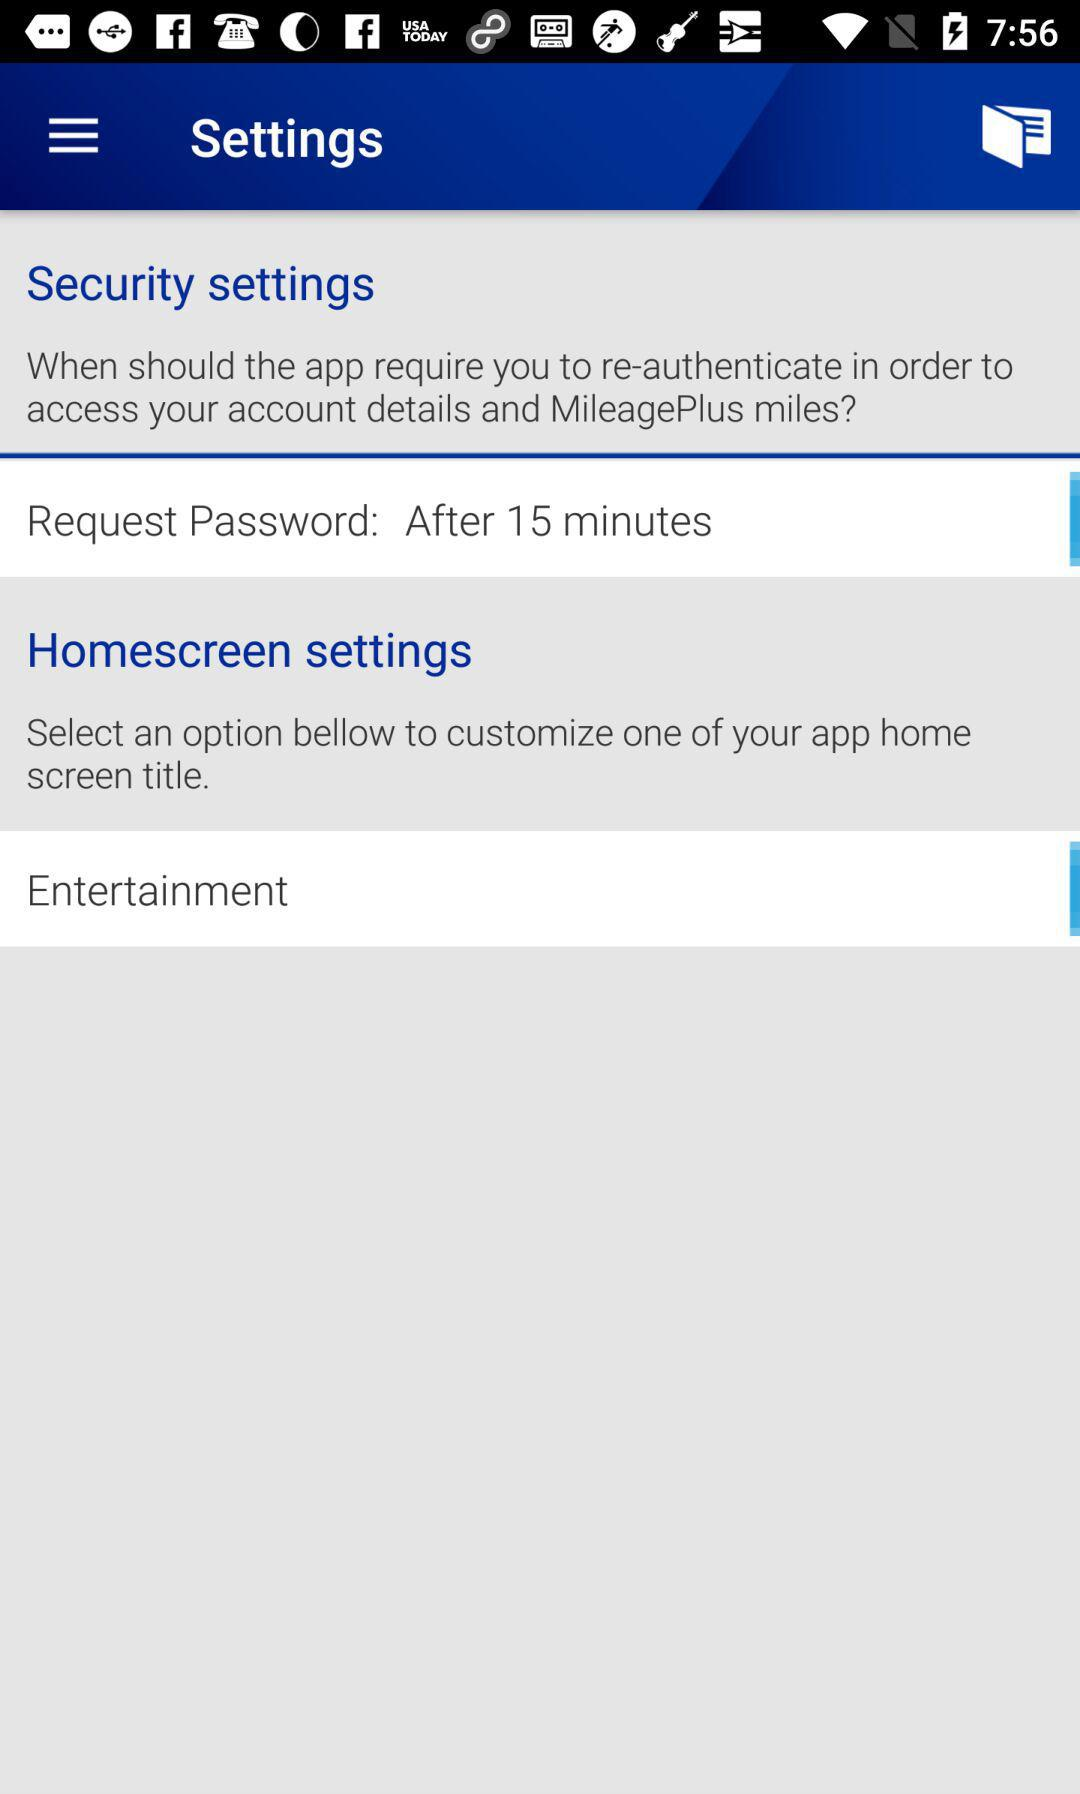Icon: (981, 104, 1053, 170), (47, 117, 101, 156)
Text: (26, 350, 1013, 431), (28, 718, 972, 791), (29, 504, 712, 546), (29, 632, 473, 679), (28, 264, 375, 311), (191, 118, 384, 170), (29, 874, 290, 907)
Toolbar: (1, 65, 1080, 211)
UpperTaskBar: (1, 1, 1080, 64)
